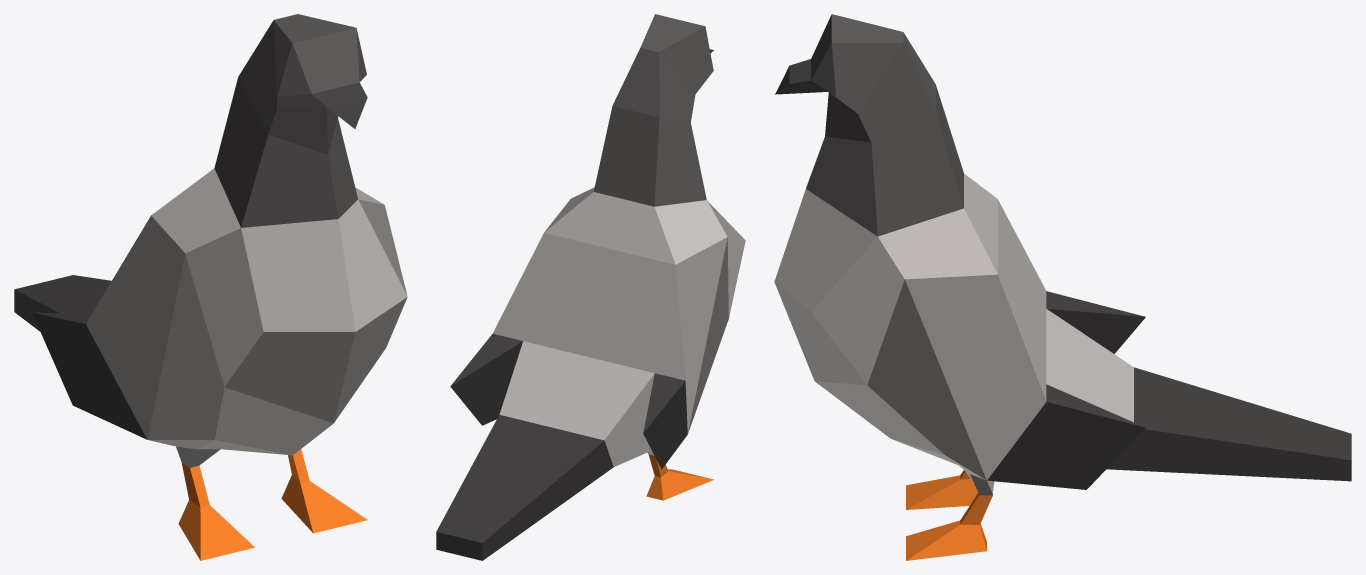
File: animals-pigeon.glb
3 renders of one model, left to right at view 1: azimuth 30°, elevation 25°; view 2: azimuth 150°, elevation 25°; view 3: azimuth 270°, elevation 25°, orthographic. The views are drawn at different scales.
Visible parts, largest first — view 1: pigeon; view 2: pigeon; view 3: pigeon.
Part boxes in pixels (left/top/right/bottom): pigeon: left=14, top=14, right=407, bottom=560; pigeon: left=436, top=14, right=745, bottom=560; pigeon: left=774, top=14, right=1351, bottom=560.
Bounding box in the file's own units: 0.2339 × 0.4869 × 0.515.
